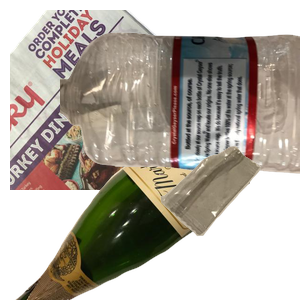glass: (13, 120, 253, 300)
paper: (10, 10, 247, 190)
plastic: (60, 30, 300, 196)
trash: (158, 144, 300, 300)
